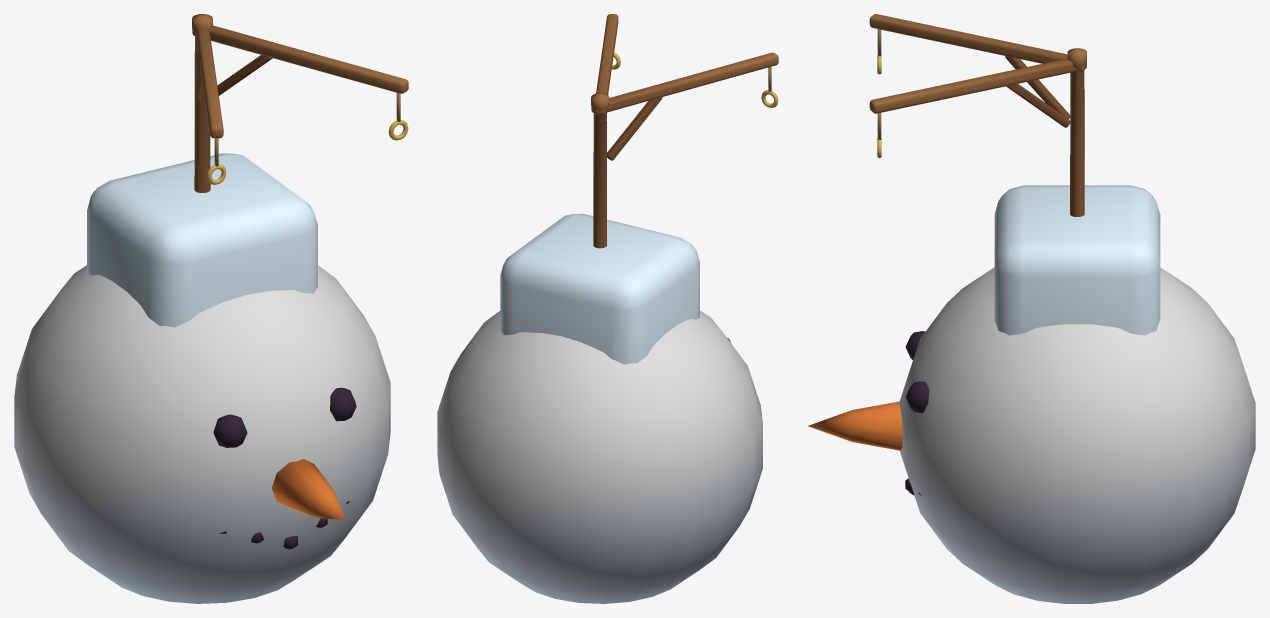
File: lab_frost.glb
3 views of the same model, side by side, from view 1: azimuth 30°, elevation 25°; view 2: azimuth 150°, elevation 25°; view 3: azimuth 270°, elevation 25° (orthographic). The views are drawn at different scales.
Visible parts, largest first — view 1: snowball, block, hookL, snowface, hookR; view 2: snowball, block, hookR, hookL; view 3: snowball, block, hookL, hookR, snowface.
Part boxes in pixels (x1=…): snowball: x1=14, y1=265, x2=390, y2=603; block: x1=87, y1=153, x2=317, y2=327; hookL: x1=192, y1=14, x2=408, y2=192; snowface: x1=213, y1=387, x2=356, y2=549; hookR: x1=196, y1=28, x2=226, y2=184; snowball: x1=437, y1=310, x2=762, y2=603; block: x1=500, y1=213, x2=699, y2=364; hookR: x1=591, y1=52, x2=778, y2=160; hookL: x1=591, y1=14, x2=620, y2=248; snowball: x1=899, y1=267, x2=1255, y2=603; block: x1=994, y1=185, x2=1160, y2=335; hookL: x1=869, y1=48, x2=1086, y2=216; hookR: x1=869, y1=14, x2=1086, y2=118; snowface: x1=808, y1=331, x2=929, y2=495.
Bounding box in the file's own units: 1.96 × 3.31 × 2.49.
